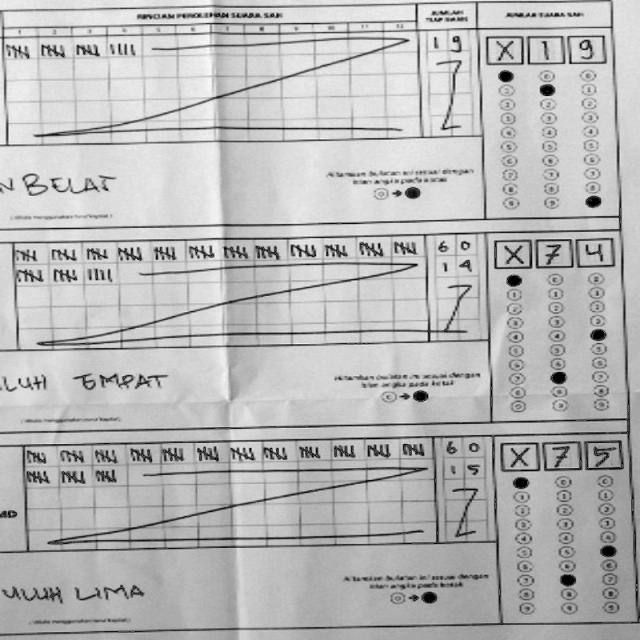Suara: (491, 433, 626, 476), (484, 228, 618, 270), (481, 34, 610, 64)
